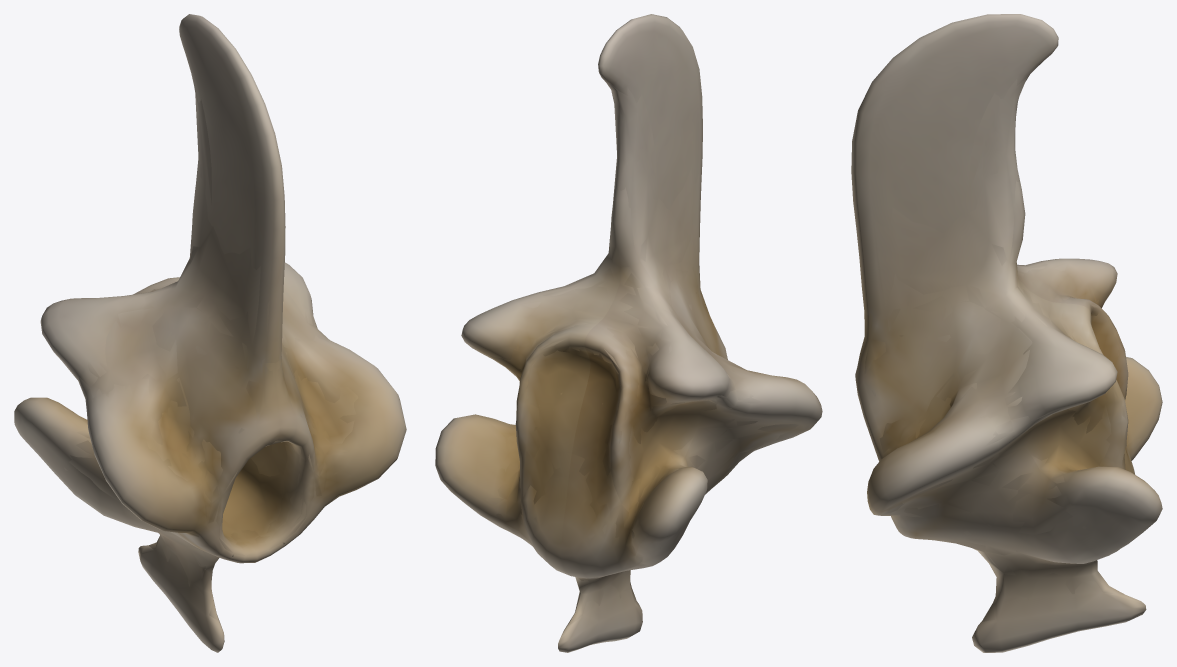
Rendered from vertebra cervicalis 2 axis.fbx.
3 renders of one model, left to right at view 1: azimuth 30°, elevation 25°; view 2: azimuth 150°, elevation 25°; view 3: azimuth 270°, elevation 25°, orthographic. The views are drawn at different scales.
Parts seen in each view (by area): view 1: vertebra cervicalis 2 axis, vertebra cervicalis 2 axis low; view 2: vertebra cervicalis 2 axis, vertebra cervicalis 2 axis low; view 3: vertebra cervicalis 2 axis, vertebra cervicalis 2 axis low.
Boxes of the visible parts, box(x1,y1,x2,y2) form: vertebra cervicalis 2 axis: box(14, 14, 406, 652); vertebra cervicalis 2 axis low: box(63, 78, 358, 621); vertebra cervicalis 2 axis: box(435, 14, 822, 652); vertebra cervicalis 2 axis low: box(485, 82, 798, 644); vertebra cervicalis 2 axis: box(851, 14, 1162, 652); vertebra cervicalis 2 axis low: box(863, 60, 1141, 638).
Size of the model in its own units: 3.51 by 7.1 by 3.14.
Materials: 1 (1 with a texture image).
